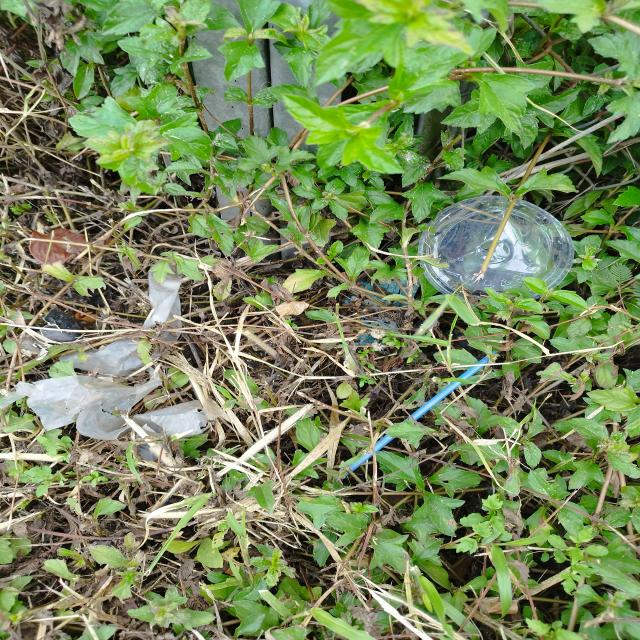drinking straw: (349, 356, 492, 469)
lid: (421, 195, 575, 299)
